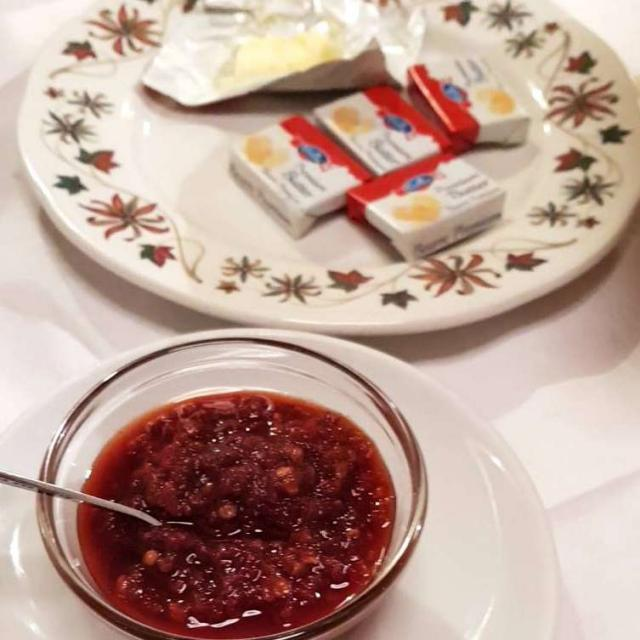butter: (234, 27, 530, 232)
oil-vinegar-salad-dressing: (83, 386, 390, 627)
